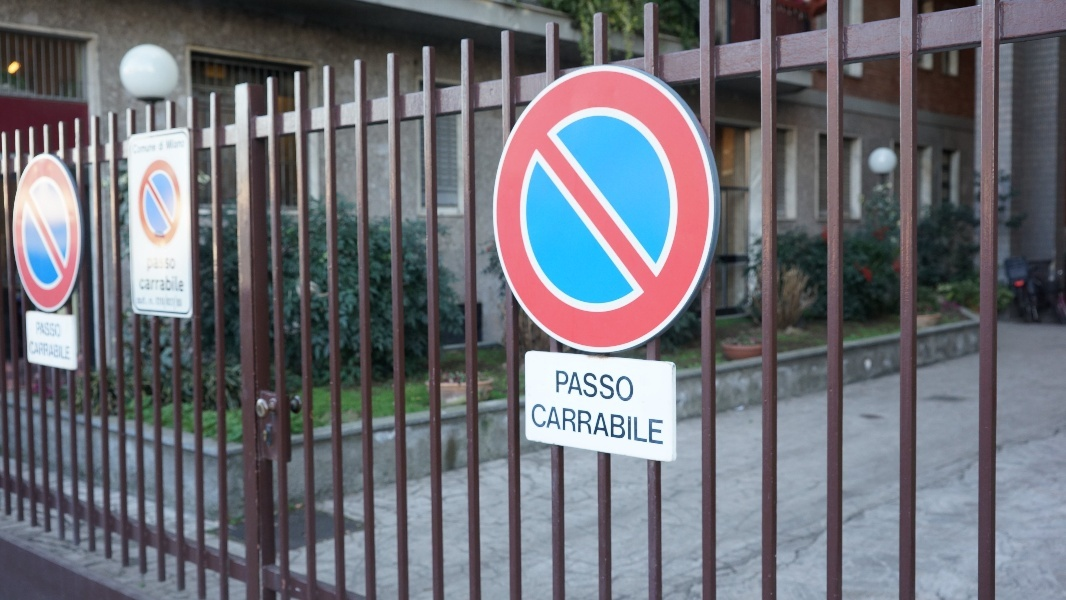text: (545, 402, 560, 447), (561, 402, 576, 447), (577, 402, 592, 447), (593, 402, 608, 447), (609, 402, 624, 447), (625, 402, 640, 447), (641, 402, 656, 447), (531, 402, 544, 447), (561, 369, 576, 404), (577, 369, 592, 404), (593, 369, 608, 404), (609, 369, 624, 404), (625, 369, 635, 404), (657, 402, 664, 447), (33, 340, 48, 361), (49, 340, 64, 361), (145, 276, 160, 294), (161, 276, 176, 294), (34, 320, 48, 339), (145, 256, 160, 273), (161, 256, 176, 273), (49, 320, 61, 339), (555, 369, 560, 404), (161, 296, 176, 307), (177, 276, 185, 294), (65, 340, 71, 361), (138, 276, 144, 294), (135, 295, 144, 305), (149, 297, 160, 304), (29, 340, 32, 361), (155, 296, 160, 307), (177, 296, 182, 307), (145, 295, 147, 305)
